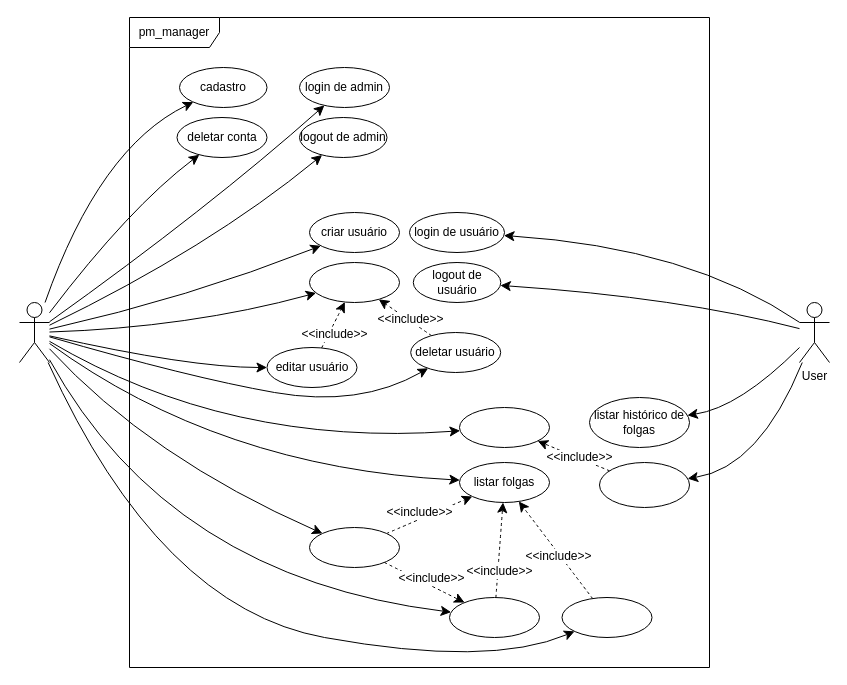
Some shapes in this 847 by 685 pixel diagram are drawn without their labels. The shapes that lost their labels are listed below. From the top down, each one's centre as x and y in pixels, then its label:
the point at 354,282: listar usuários
the point at 34,332: Admin
the point at 504,427: criar folga
the point at 644,485: solicitar folga
the point at 354,547: ordenar folgas
the point at 494,617: editar folga
the point at 606,617: deletar folga
